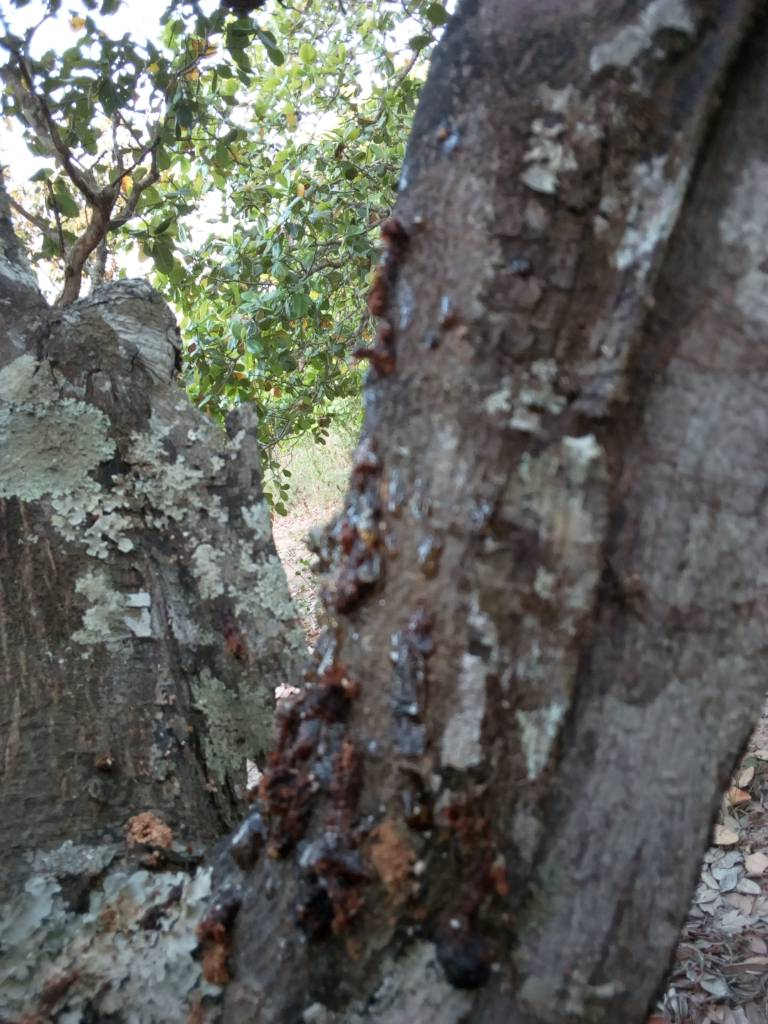Gommose: (210, 522, 499, 978)
